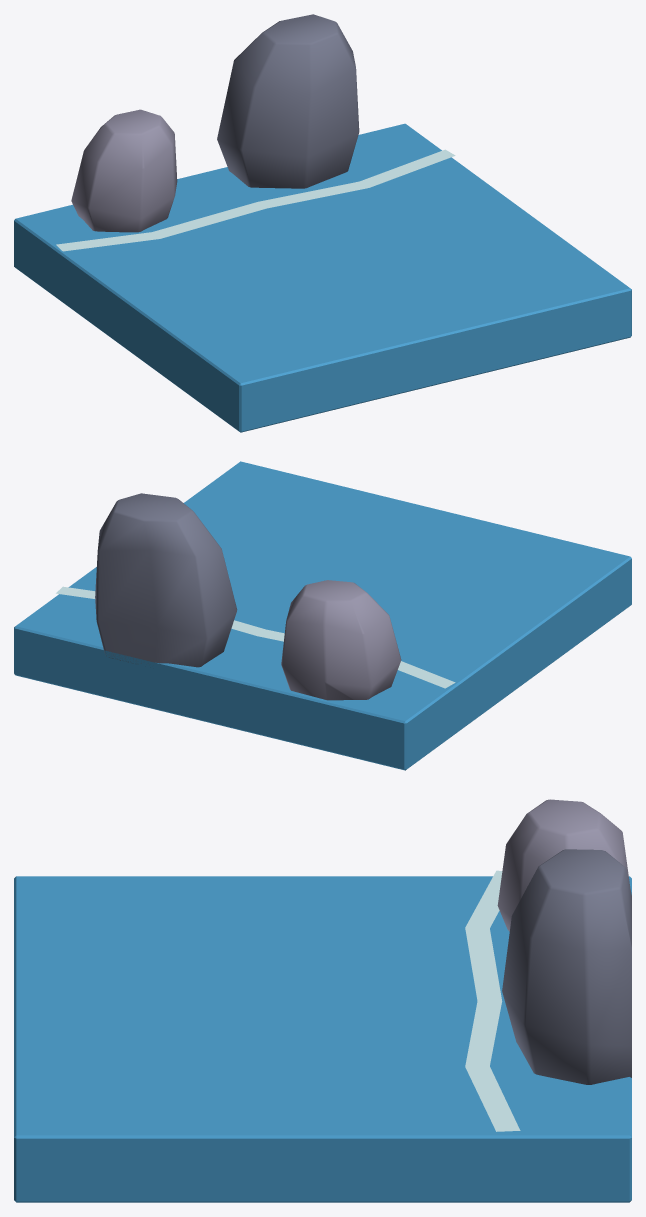
The model's file is shore_rock_water_edge_01.glb.
3 views of the same model, one above another, from view 1: azimuth 30°, elevation 25°; view 2: azimuth 150°, elevation 25°; view 3: azimuth 270°, elevation 25° (orthographic). The views are drawn at different scales.
Visible parts, largest first — view 1: shore_rock_water_edge_01; view 2: shore_rock_water_edge_01; view 3: shore_rock_water_edge_01.
Boxes of the visible parts, <box> form: shore_rock_water_edge_01: <box>14,14,631,432</box>; shore_rock_water_edge_01: <box>14,461,631,770</box>; shore_rock_water_edge_01: <box>14,799,631,1202</box>.
Bounding box in the file's own units: 1 × 0.45 × 1.
